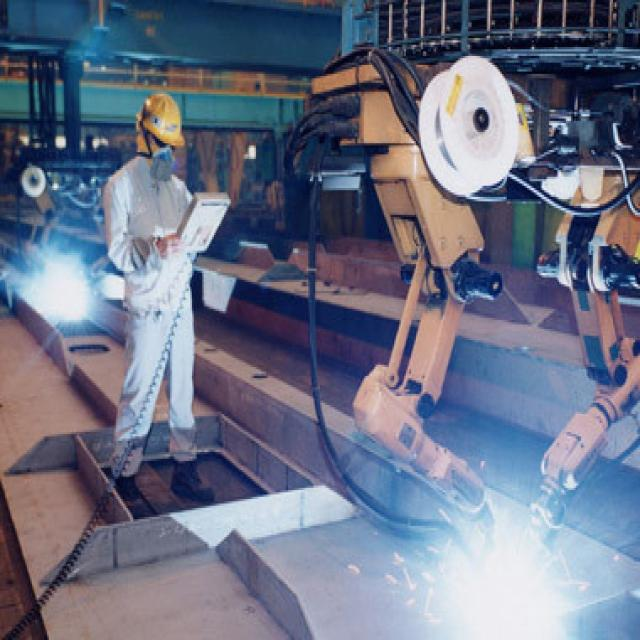welding: (443, 550, 568, 640), (37, 256, 94, 328)
